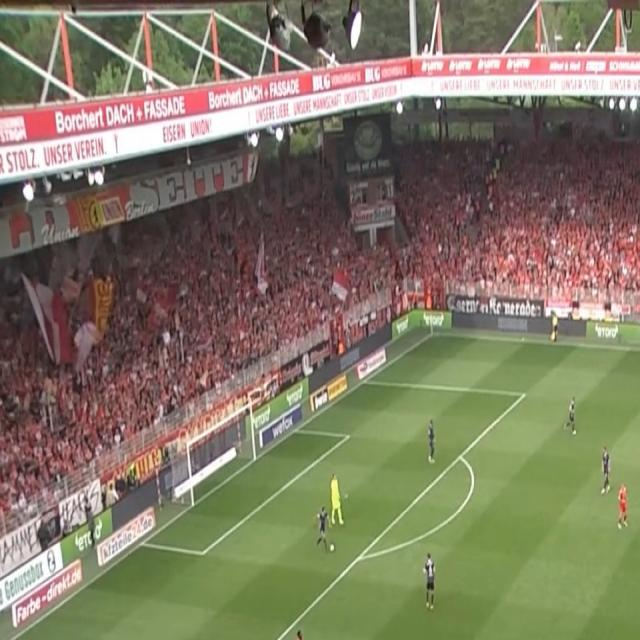ball: (329, 542, 335, 554)
